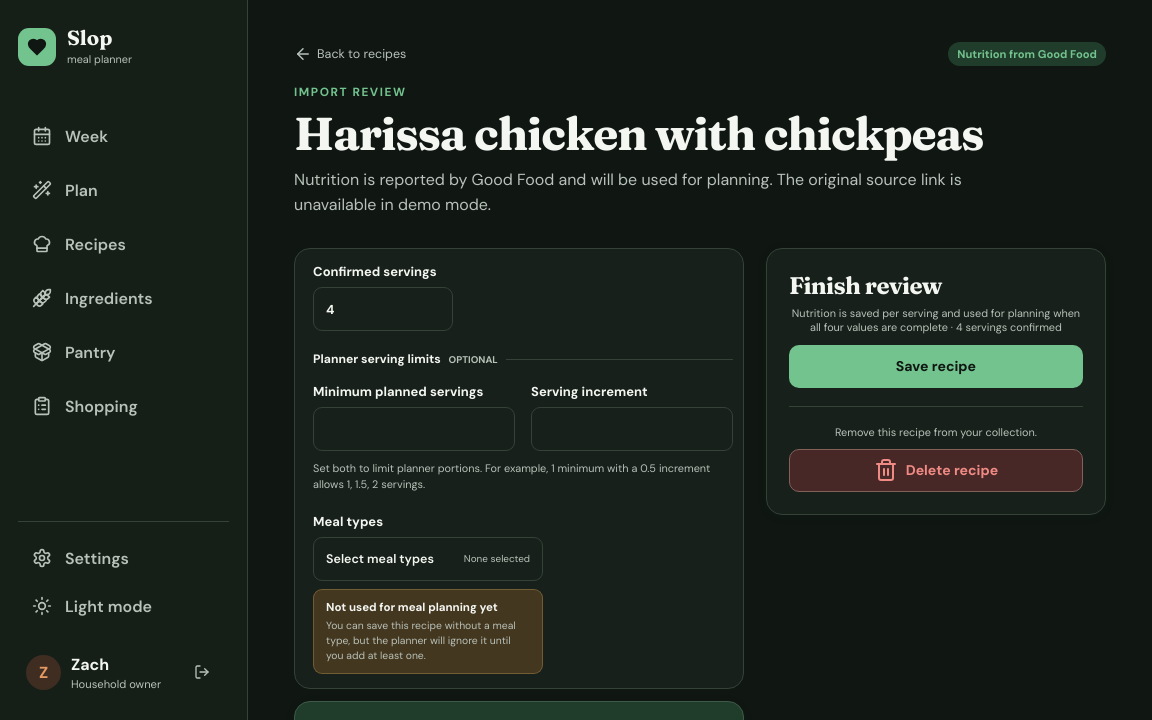
Test: App › keeps demo import servings connected to the review summary
The width and height of the screenshot is (1152, 720).
Replace the text in the number field labelled "Confirmed servings" with "6" at {"x": 383, "y": 309}, box x1=313 y1=287 x2=453 y2=331
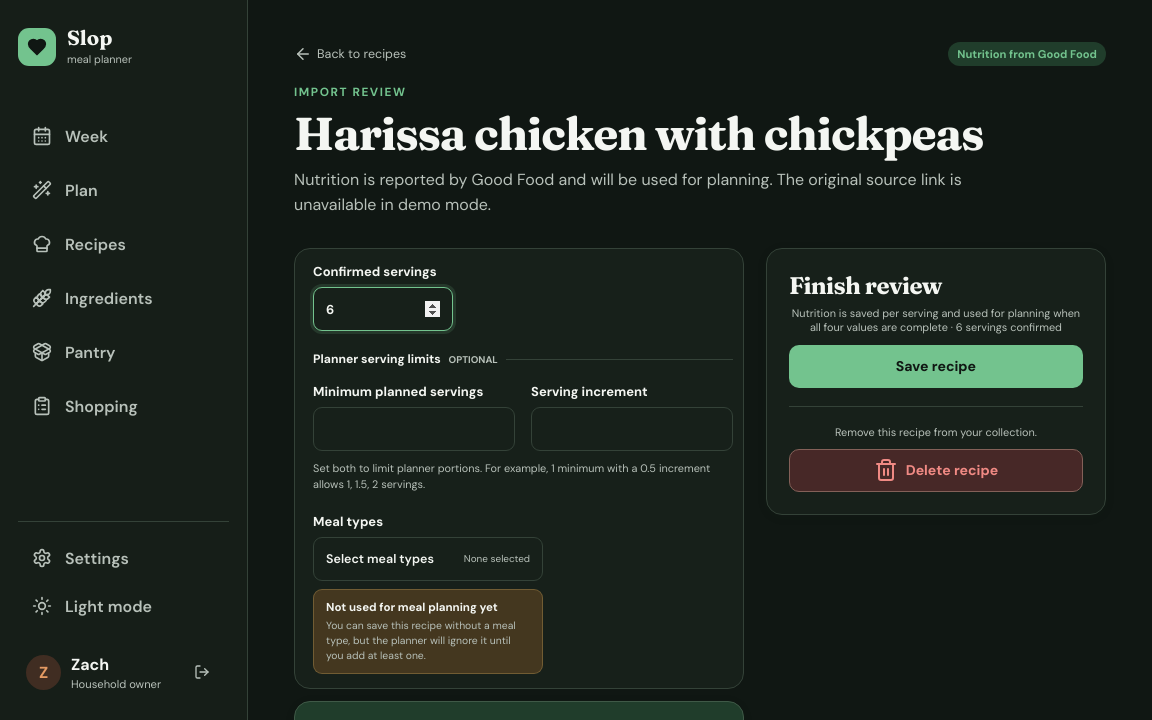
Check: the text "6 servings confirmed" is shown, box x1=789 y1=306 x2=1083 y2=334
